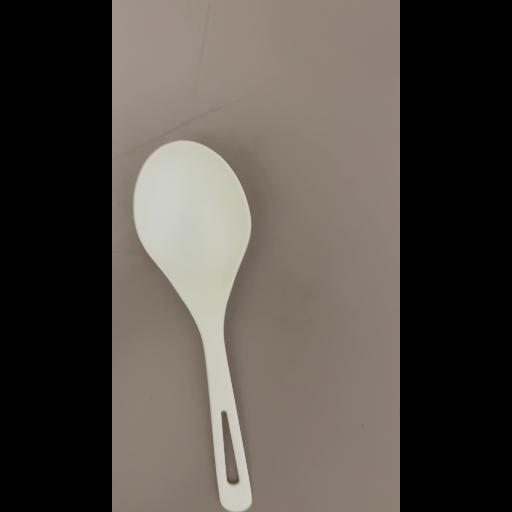utensil: (124, 134, 306, 512)
